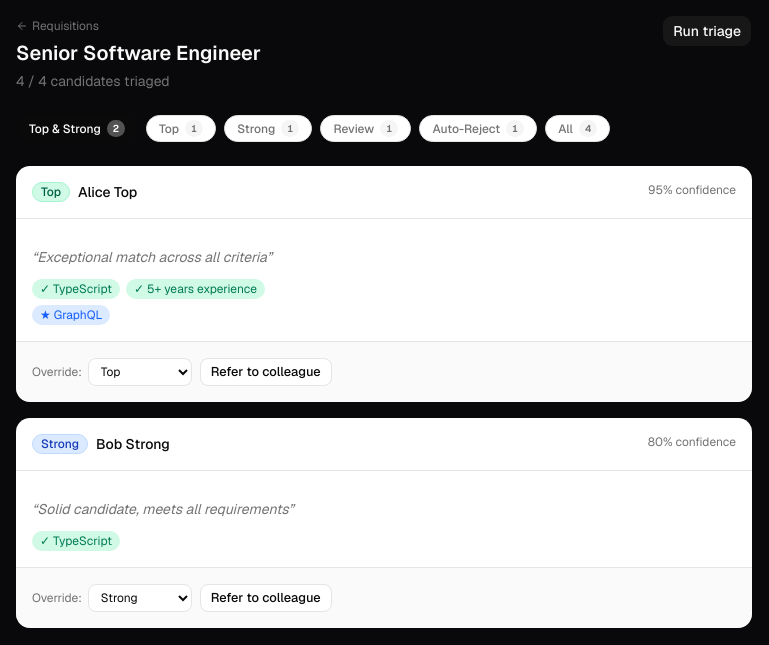
Scenario: rendering › clicking Review filter shows only review candidates
Click the button named "Review1": x=366, y=129 [320, 115, 411, 142]
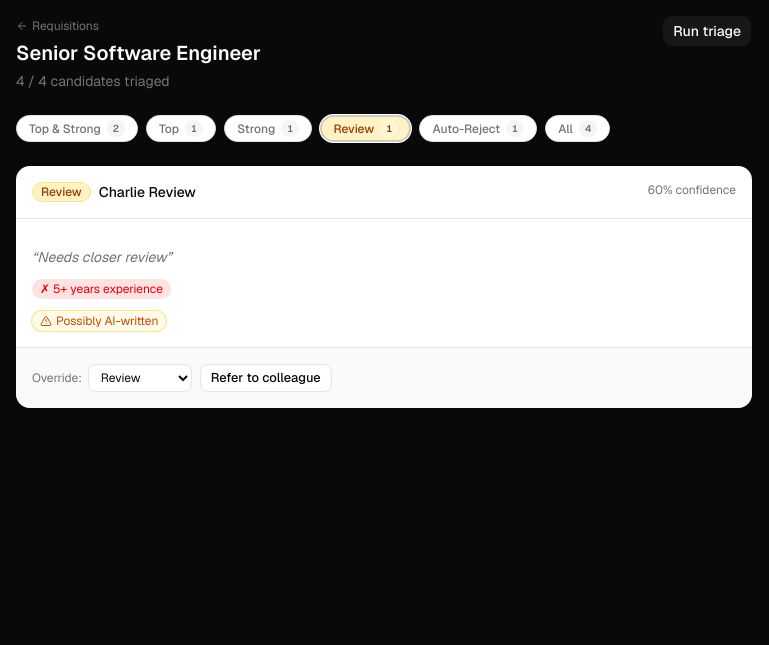
Expected: the text "Charlie Review" is shown, [99, 182, 196, 202]
Expected: the text "Alice Top" is gone
